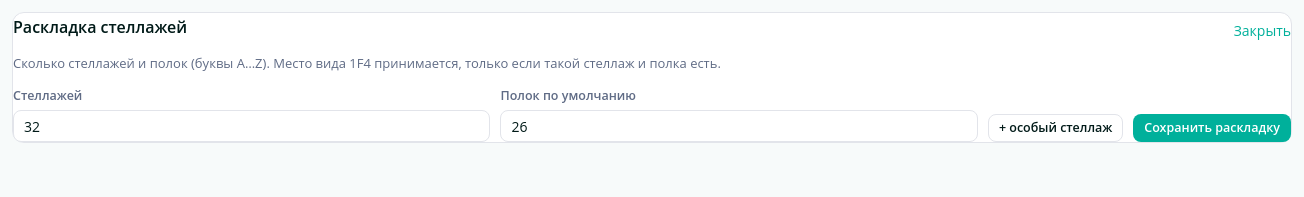
Scenario: «Раскладка»: edits racks, default shelves and a special rack and shows the saved summary
The image size is (1304, 197).
Step 1. Replace the text in the number field labelled "Стеллажей" with "5" → (252, 126), box [13, 110, 490, 142]
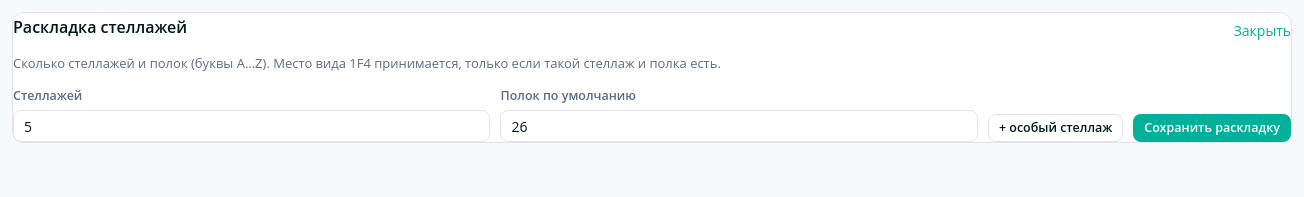
Step 2. Replace the text in the number field labelled "Полок по умолчанию" with "7" → (739, 126), box [500, 110, 978, 142]
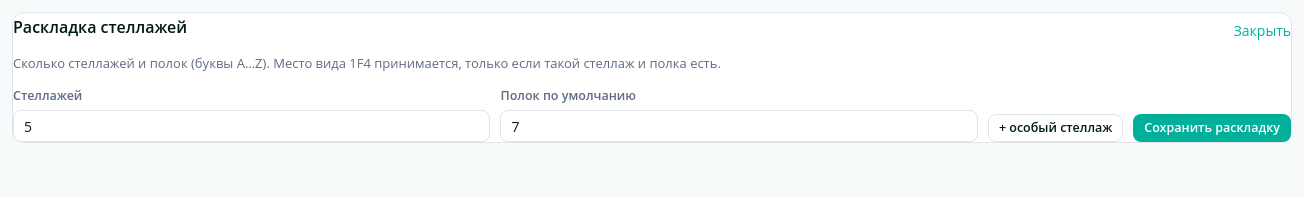
Step 3. Click the button "+ особый стеллаж" → (1056, 128), box [988, 114, 1123, 142]
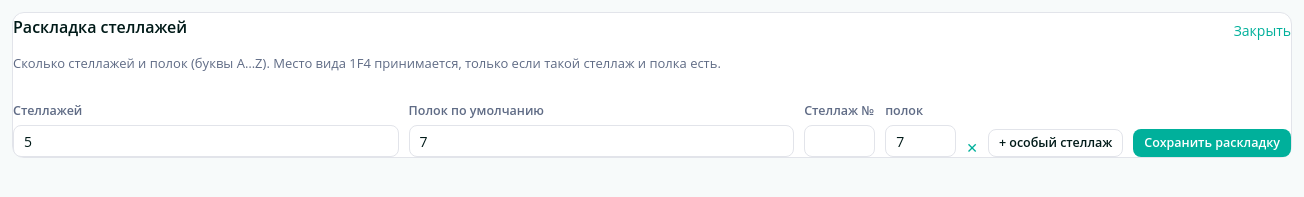
Step 4. Type "2" into the number field named "Особый стеллаж 1" → (840, 141), box [804, 125, 875, 157]
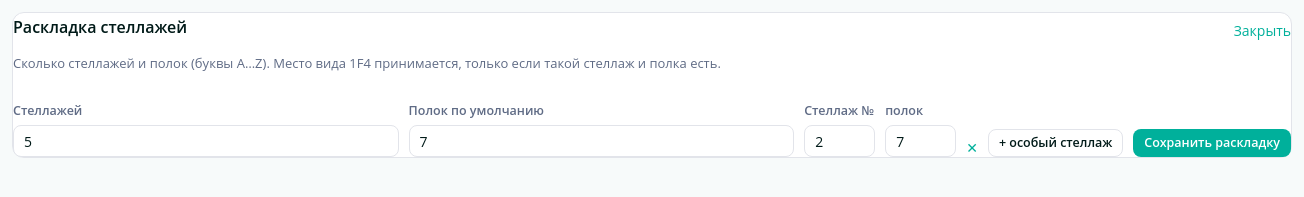
Step 5. Replace the text in the number field named "Полок на особом стеллаже 1" with "3" → (921, 141), box [885, 125, 956, 157]
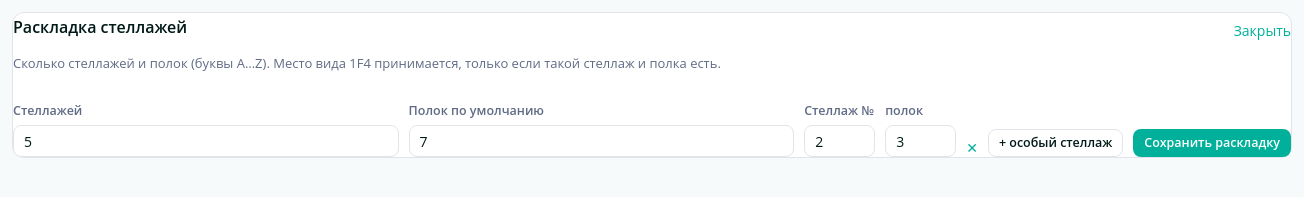
Step 6. Click the button "Сохранить раскладку" → (1212, 143), box [1133, 129, 1291, 157]
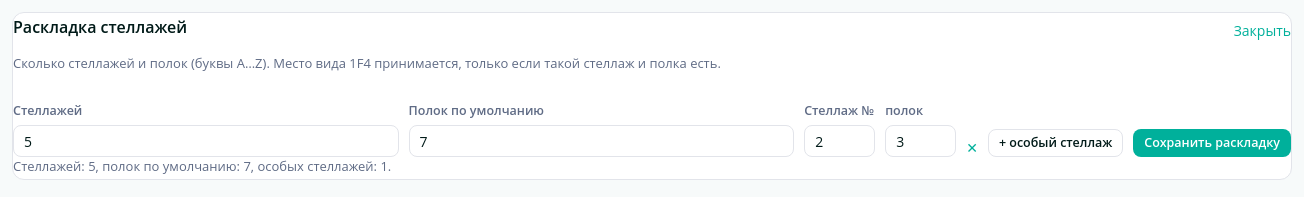
Expected: the text "Стеллажей: 5, полок по умолчанию: 7, особых стеллажей: 1." is shown, [13, 157, 391, 175]
